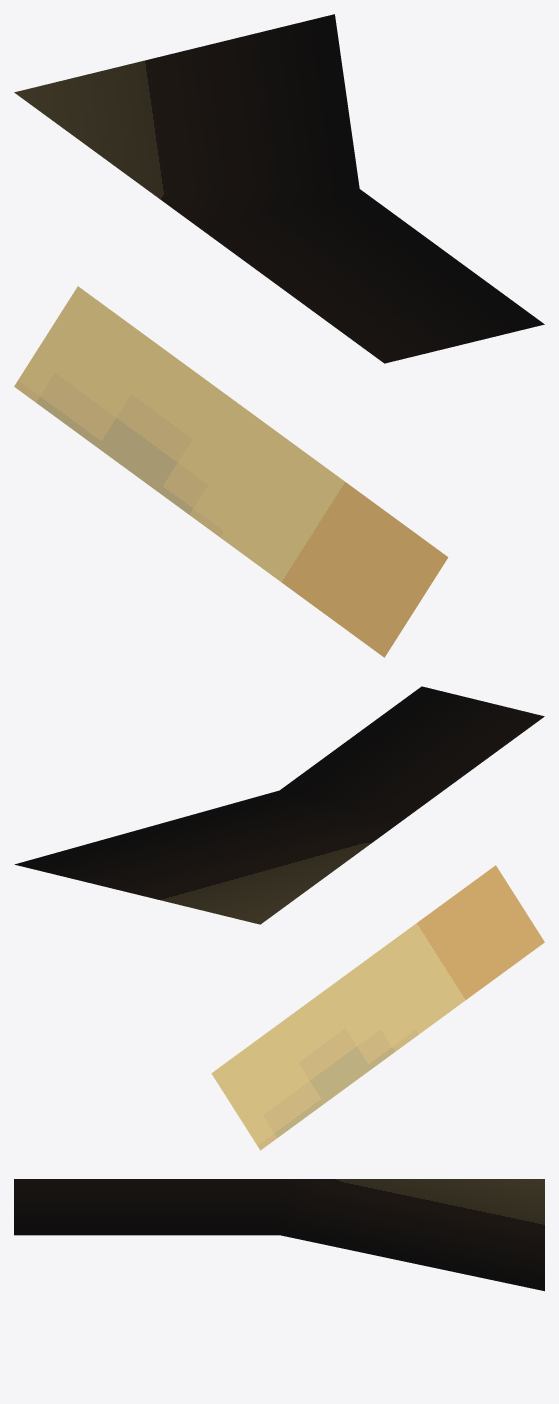
3 views of the same model, one above another, from view 1: azimuth 30°, elevation 25°; view 2: azimuth 150°, elevation 25°; view 3: azimuth 270°, elevation 25° (orthographic). The views are drawn at different scales.
Bounding box in the file's own units: 0.5 × 0.438 × 1.
Materials: 2 (2 with a texture image).
